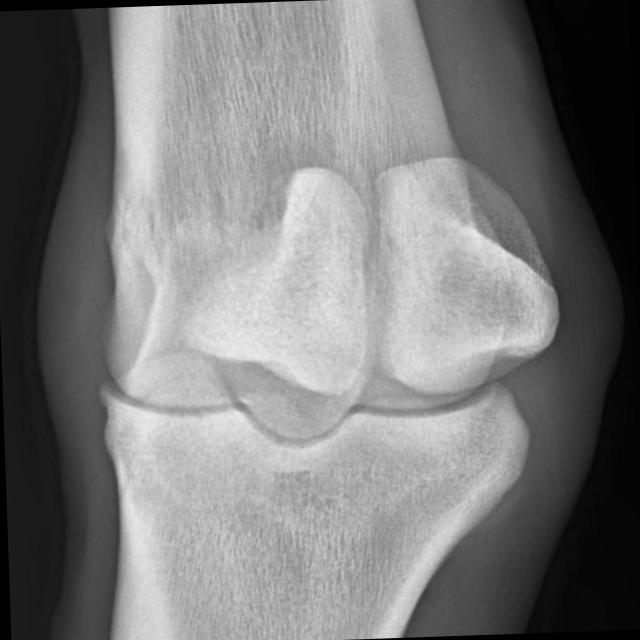bone remodeling: (89, 383, 113, 413)
